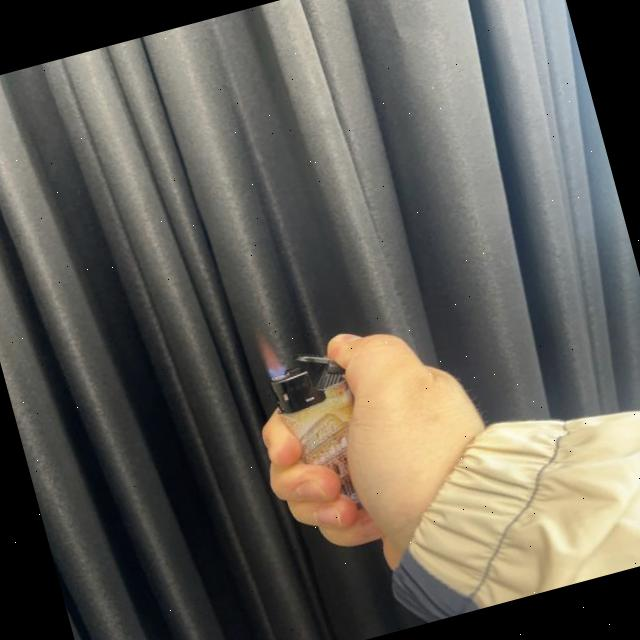fire: (253, 323, 289, 382)
